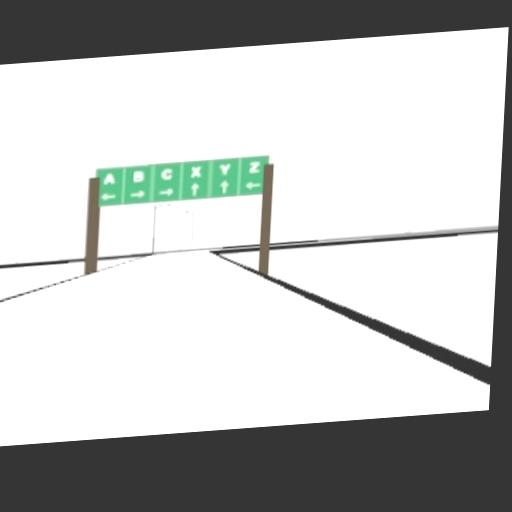A: (103, 171, 114, 183)
B: (132, 169, 143, 181)
C: (159, 167, 172, 179)
Left: (243, 179, 260, 188), (100, 190, 115, 199)
Right: (129, 188, 144, 197), (158, 185, 173, 194)
Straight: (219, 178, 228, 193), (190, 181, 199, 195)
X: (190, 165, 201, 177)
Y: (219, 163, 230, 175)
Z: (248, 161, 259, 172)
